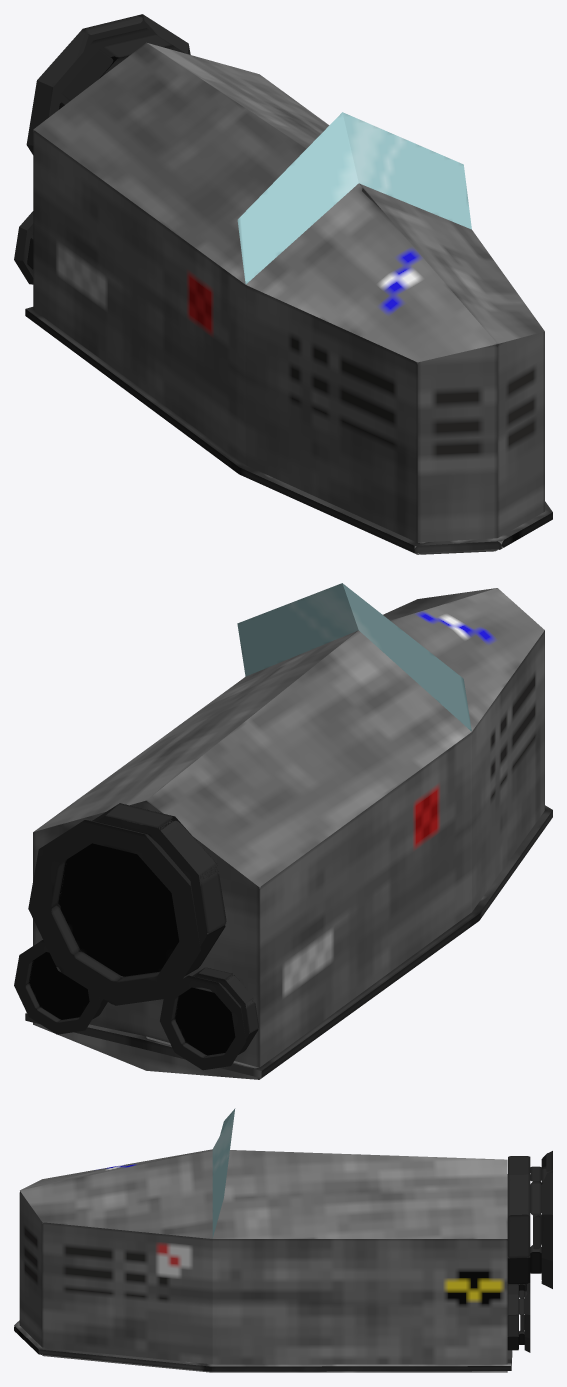
Rendered from CyberKart.obj.
The picture shows the model from 3 angles, top to bottom: view 1: azimuth 30°, elevation 25°; view 2: azimuth 150°, elevation 25°; view 3: azimuth 270°, elevation 25°; orthographic projection. The views are drawn at different scales.
Parts seen in each view (by area): view 1: mesh; view 2: mesh; view 3: mesh.
Boxes of the visible parts, <box> form: mesh: <box>14,14,552,554</box>; mesh: <box>14,583,552,1079</box>; mesh: <box>14,1108,552,1372</box>.
Size of the model in its own units: 1.06 by 1.45 by 2.97.
1 material, 1 textured.
